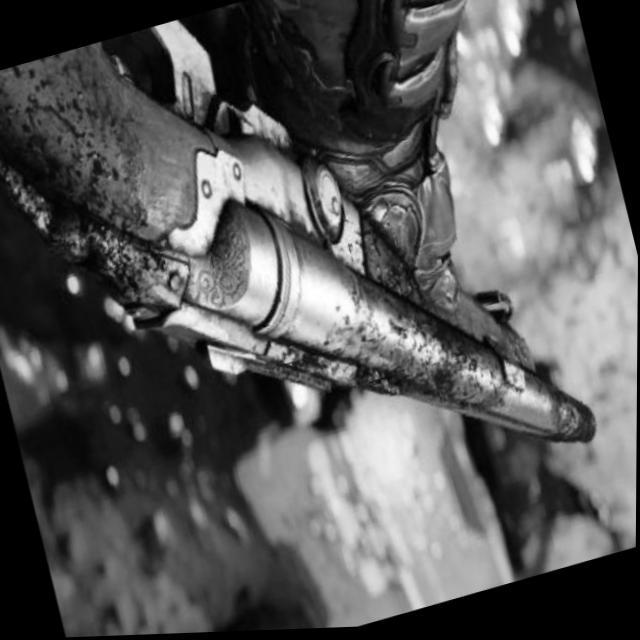weapon: (0, 0, 605, 595)
